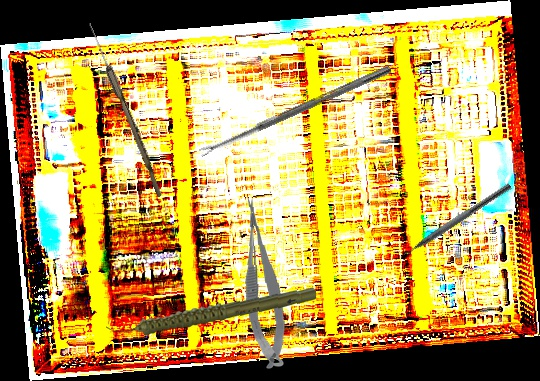Chopper: (392, 175, 513, 263)
Handpiece: (105, 274, 317, 347)
Micro Scissor: (239, 195, 289, 372)
Surgical Spoon: (198, 64, 392, 157), (84, 21, 167, 198)
